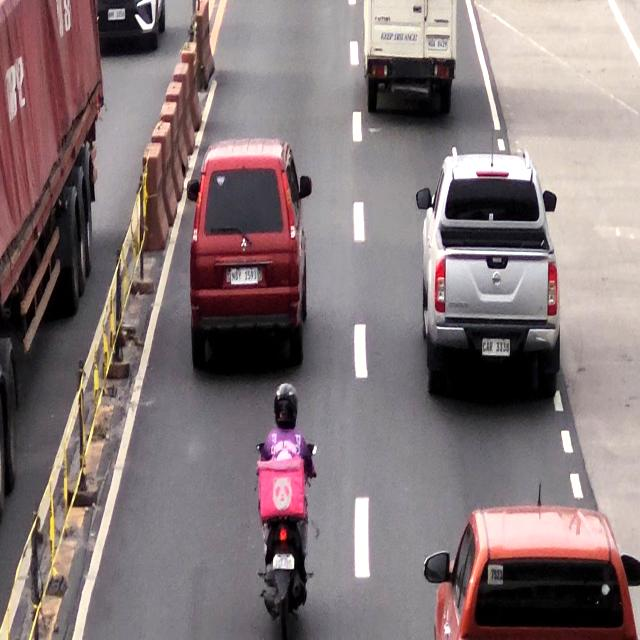Car: (423, 150, 555, 389), (438, 500, 634, 640), (193, 142, 305, 352)
License-Plate: (481, 335, 510, 359), (228, 266, 259, 288), (270, 552, 295, 573)
Motorcycle: (262, 378, 312, 640)
